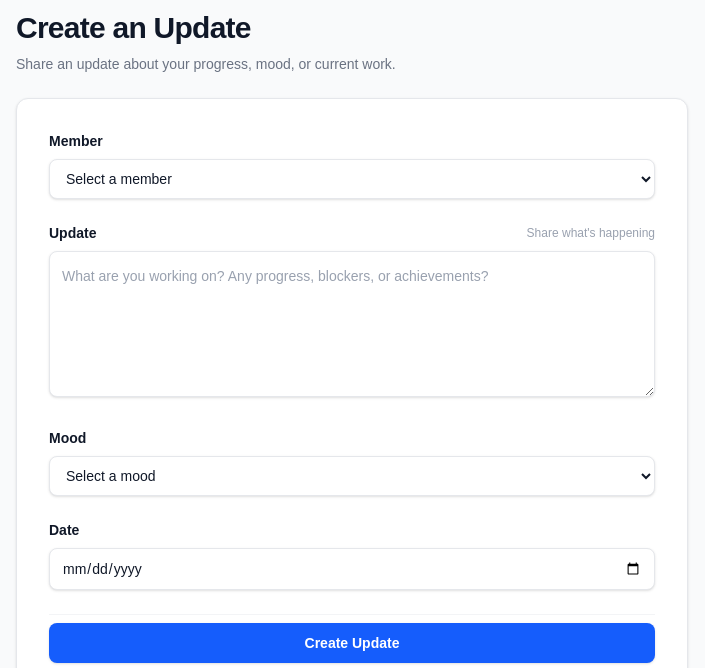
Test: CreateUpdate Page › shows an error when update text is missing
Select "Alice (Developer)" in the dropdown labelled "Member": (352, 179) [49,159,655,199]
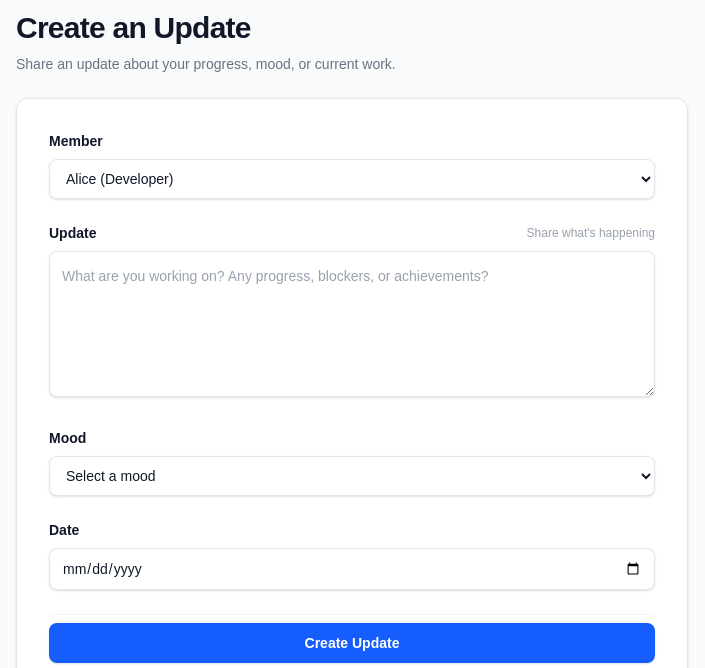
Select "Select a mood" in the dropdown labelled "Mood": (352, 476) [49,456,655,496]
In the date field labelled "Date": (352, 569) [49,548,655,590], type "2026-09-04"
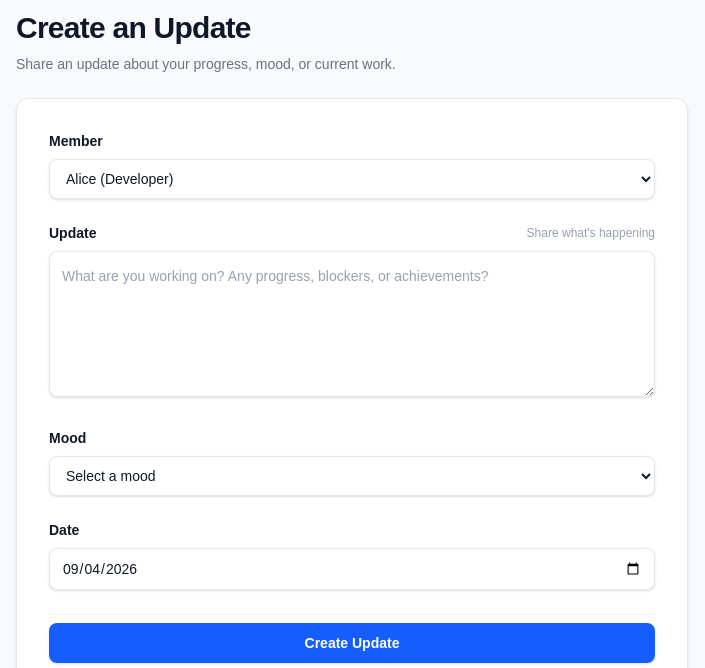
Click the button "Create Update": (352, 643) [49,623,655,663]
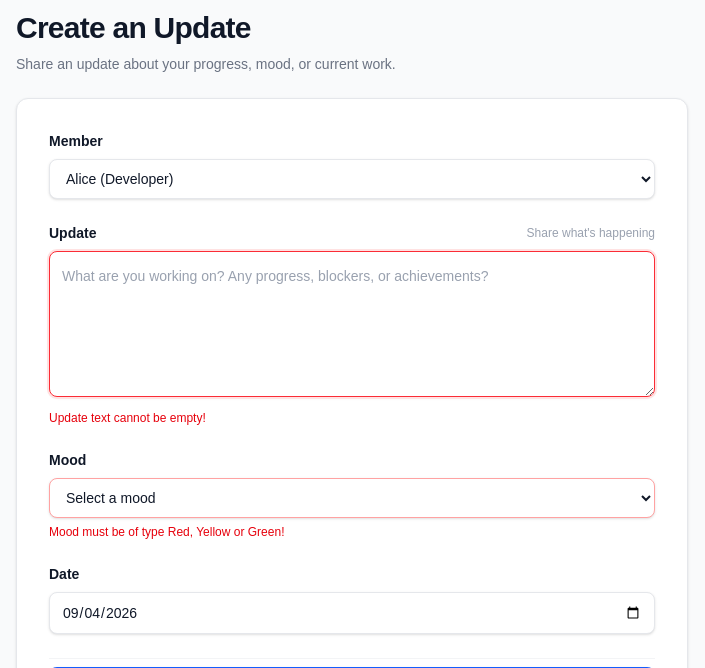
expect the text "Update text cannot be empty!" is shown: met, box [49,411,206,425]
